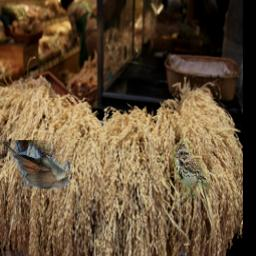Cuckoo: (2, 140, 71, 189)
Sparrow: (174, 142, 223, 208)
